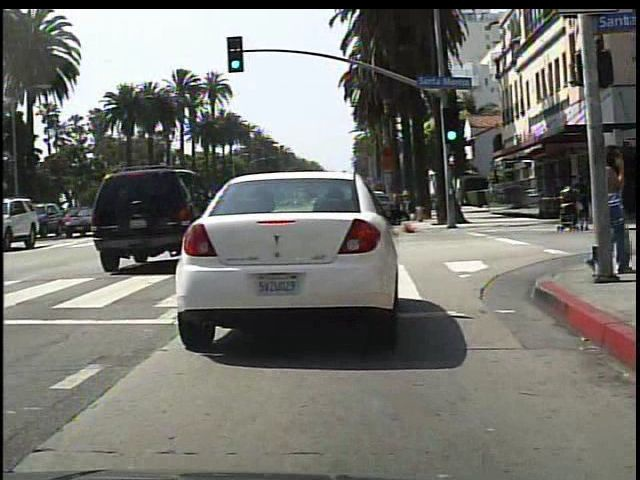person: (582, 141, 640, 278)
